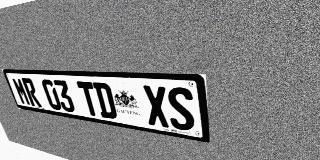0: (40, 79, 63, 111)
3: (53, 80, 76, 113)
D: (92, 82, 118, 120)
M: (11, 77, 32, 106)
R: (21, 78, 42, 107)
S: (166, 86, 196, 132)
T: (76, 81, 101, 117)
X: (142, 85, 171, 128)
